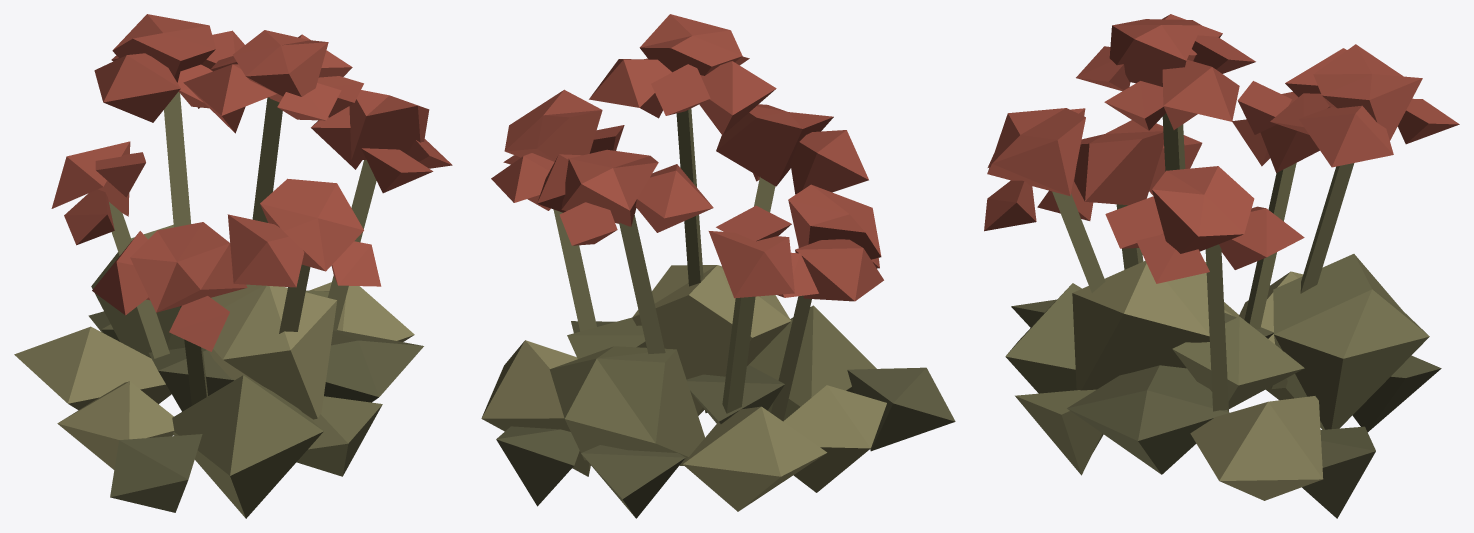
File: SM_Env_Flowers_01.fbx
3 renders of one model, left to right at view 1: azimuth 30°, elevation 25°; view 2: azimuth 150°, elevation 25°; view 3: azimuth 270°, elevation 25°, orthographic. The views are drawn at different scales.
Visible parts, largest first — view 1: SM_Env_Flowers_01; view 2: SM_Env_Flowers_01; view 3: SM_Env_Flowers_01.
Part boxes in pixels (x1=…): SM_Env_Flowers_01: x1=14, y1=14, x2=452, y2=518; SM_Env_Flowers_01: x1=481, y1=14, x2=955, y2=518; SM_Env_Flowers_01: x1=984, y1=14, x2=1459, y2=518.
Size of the model in its own units: 102 by 111 by 102.
